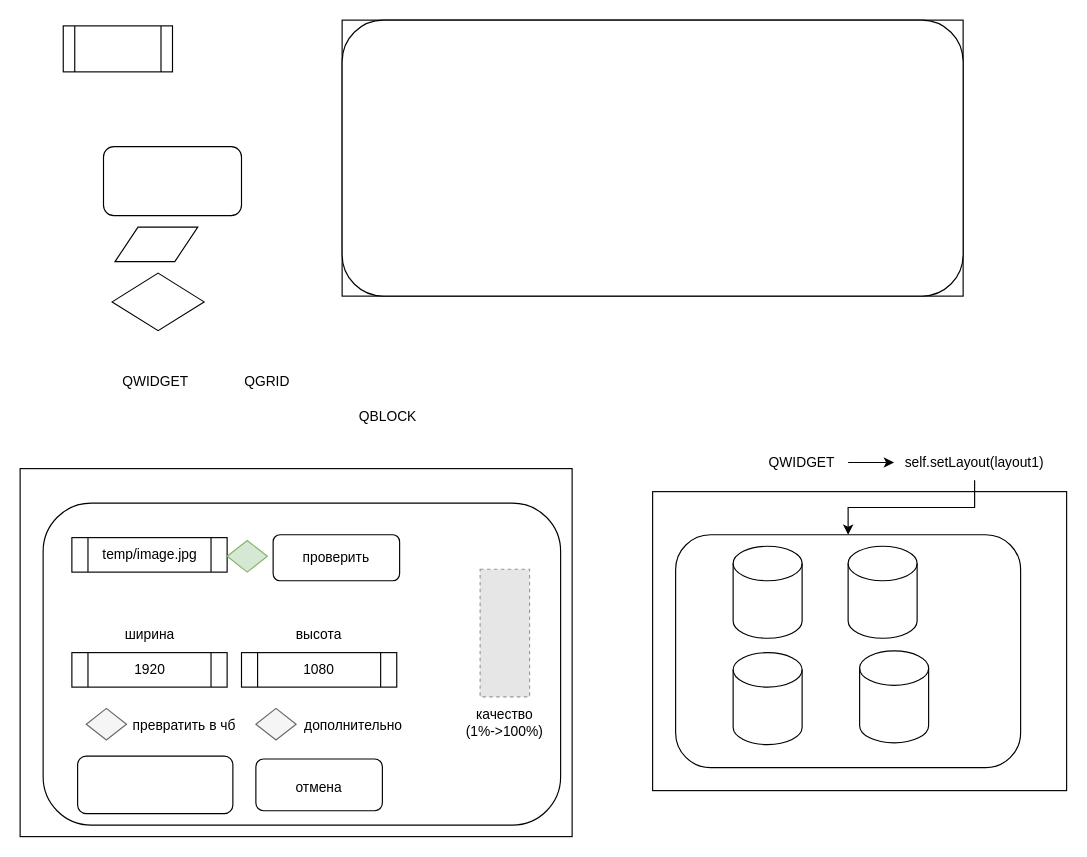
The diagram is 1087 pixels wide and 857 high, and some of its shapes have lost their labels. Grey dashed boxes stand in for pictures. Each missing label, with the box of its shape:
block: (102, 145, 241, 216)
grid: (341, 19, 963, 296)
выполнить: (76, 755, 233, 814)
